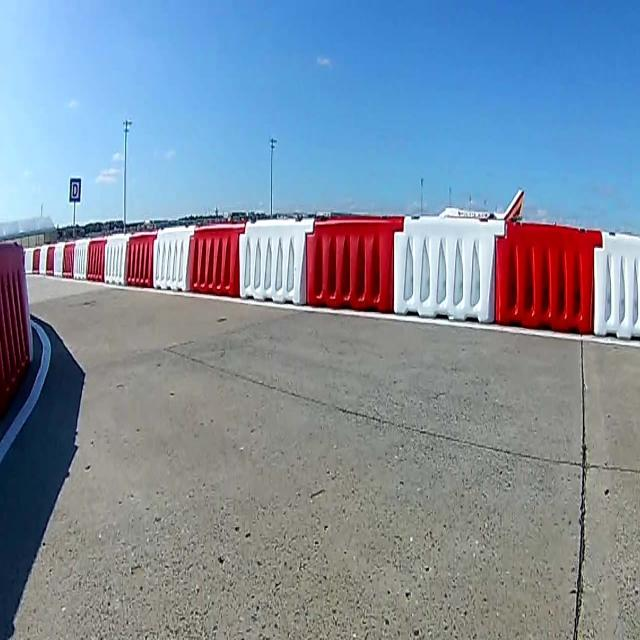durak: (69, 178, 81, 202)
